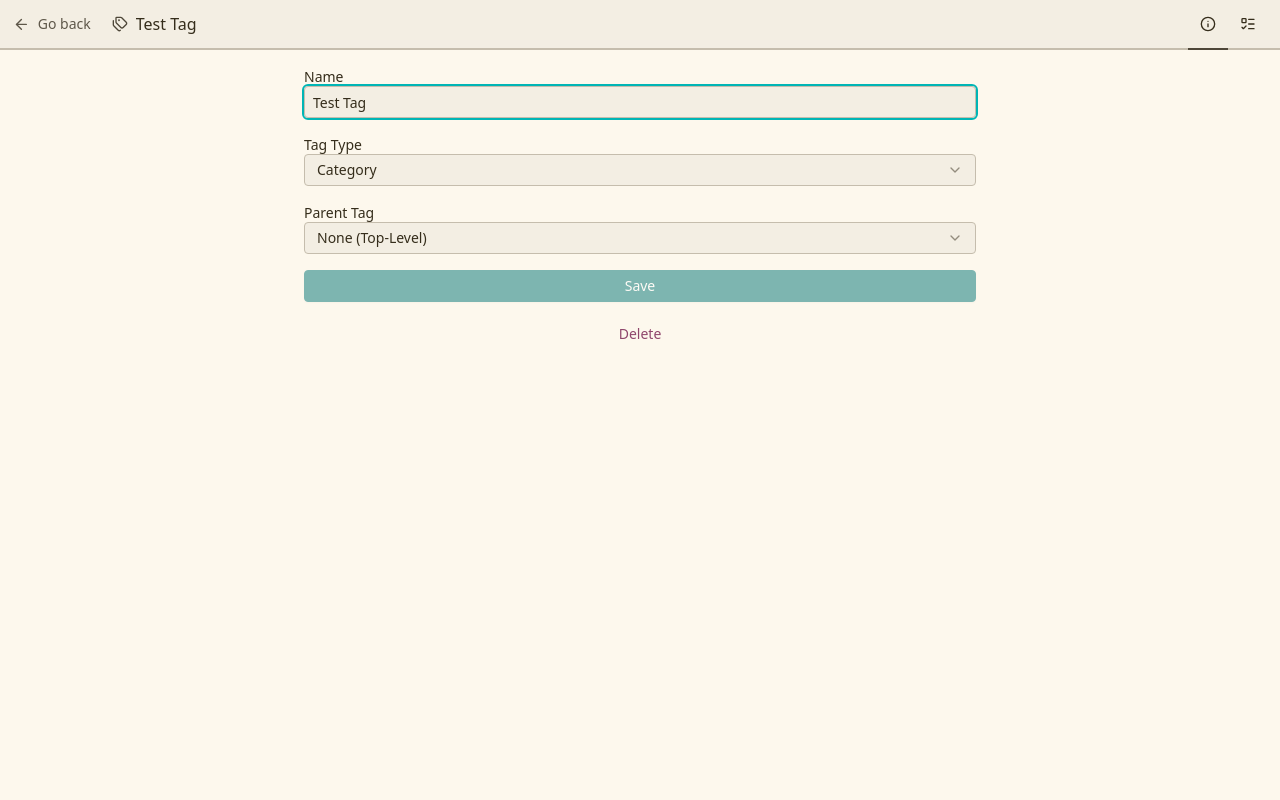
Test case: Tag Detail - Info Tab › user can confirm discard and lose changes
Replace the text in the field labelled "Name" with "Changed Name" at point(640, 102), box [304,86,976,118]
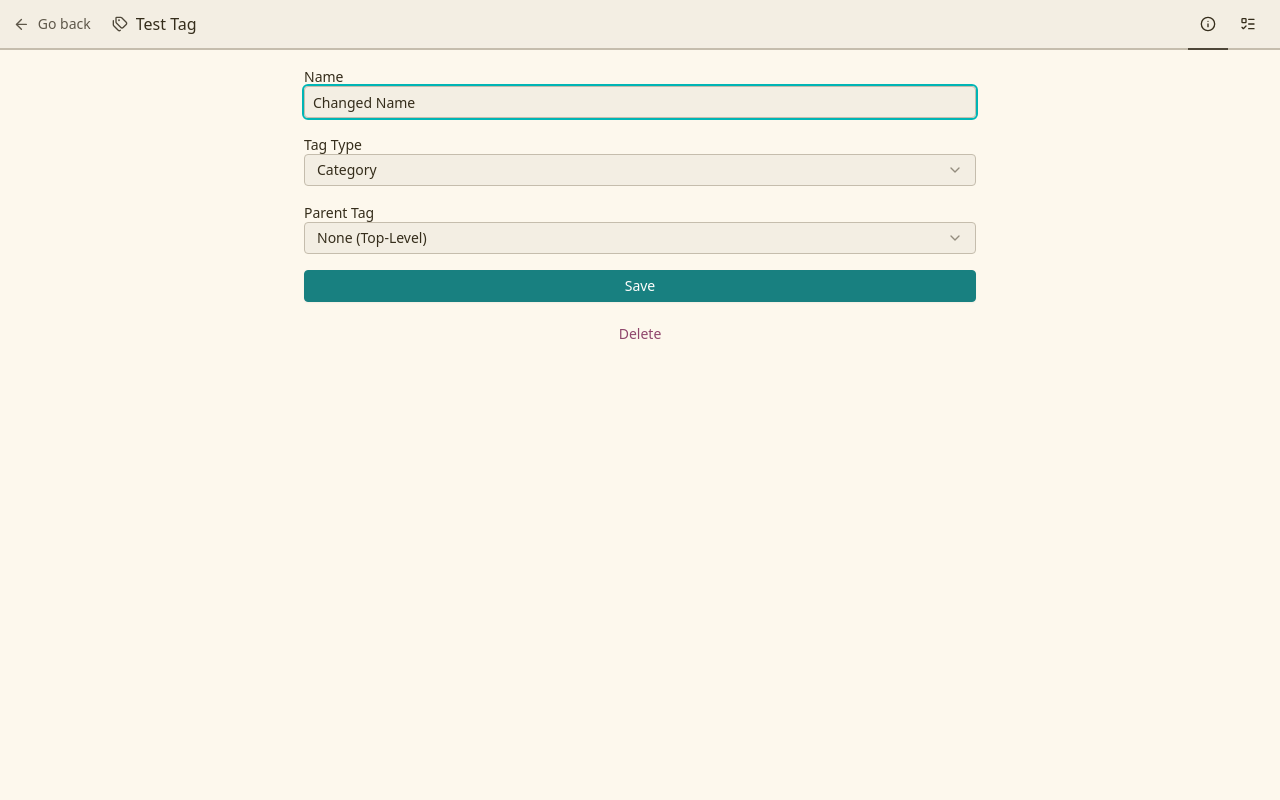
Click the link named "Tag items tab" at point(1248, 25), box [1228,0,1268,50]
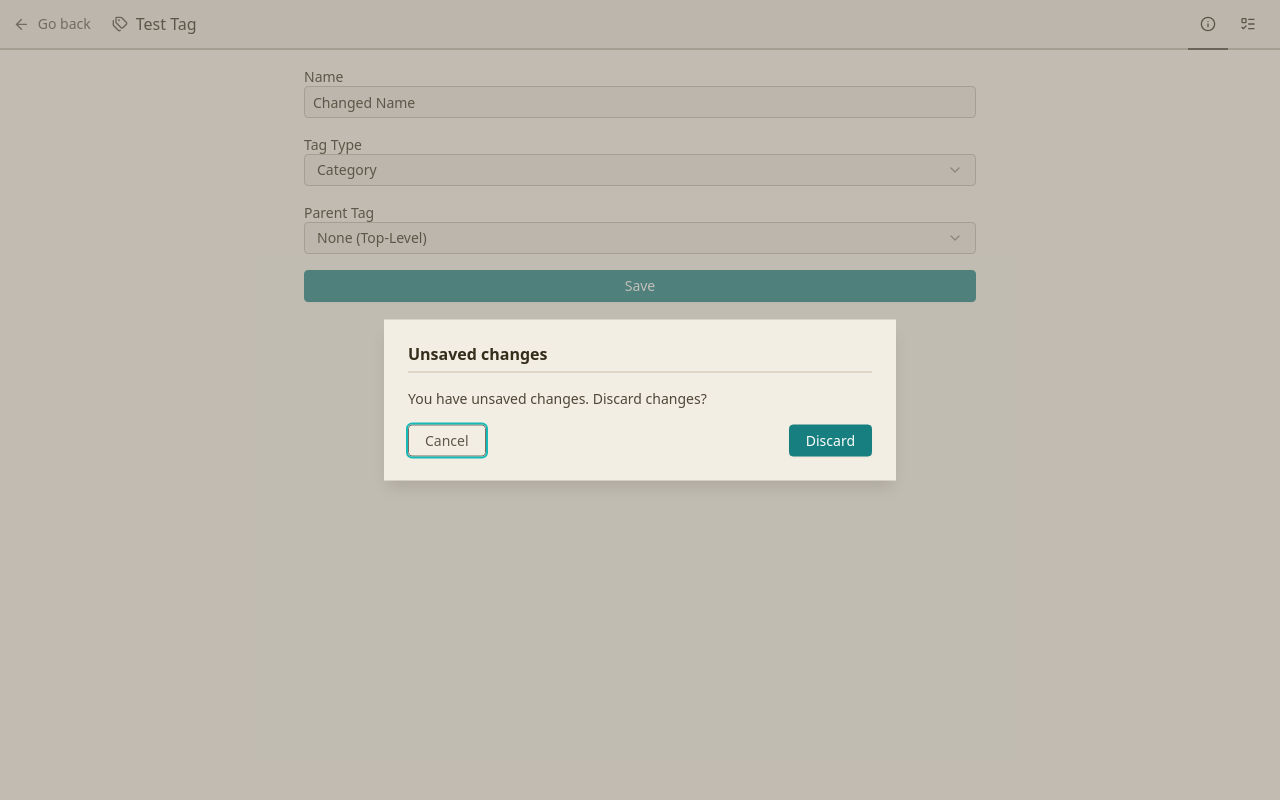
Expected: the heading "Unsaved changes" is shown, [408,342,548,364]
And clicks Discard
Click the button "Discard" at point(830, 440), box [789,424,872,456]
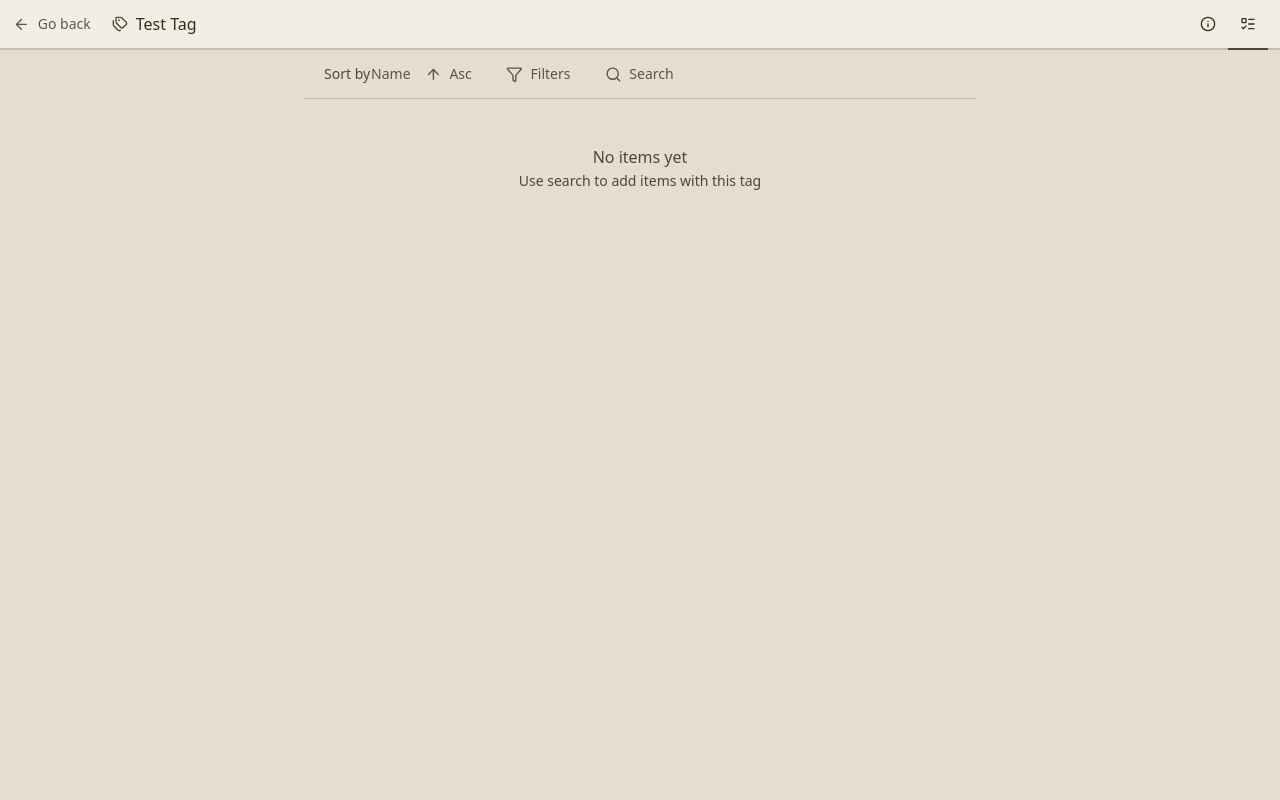
Expected: the heading "Test Tag" is shown, [136,13,197,35]
Expected: the heading "Unsaved changes" is gone
Expected: the button with aria-label "toggle filters" is shown, [493,58,584,90]
